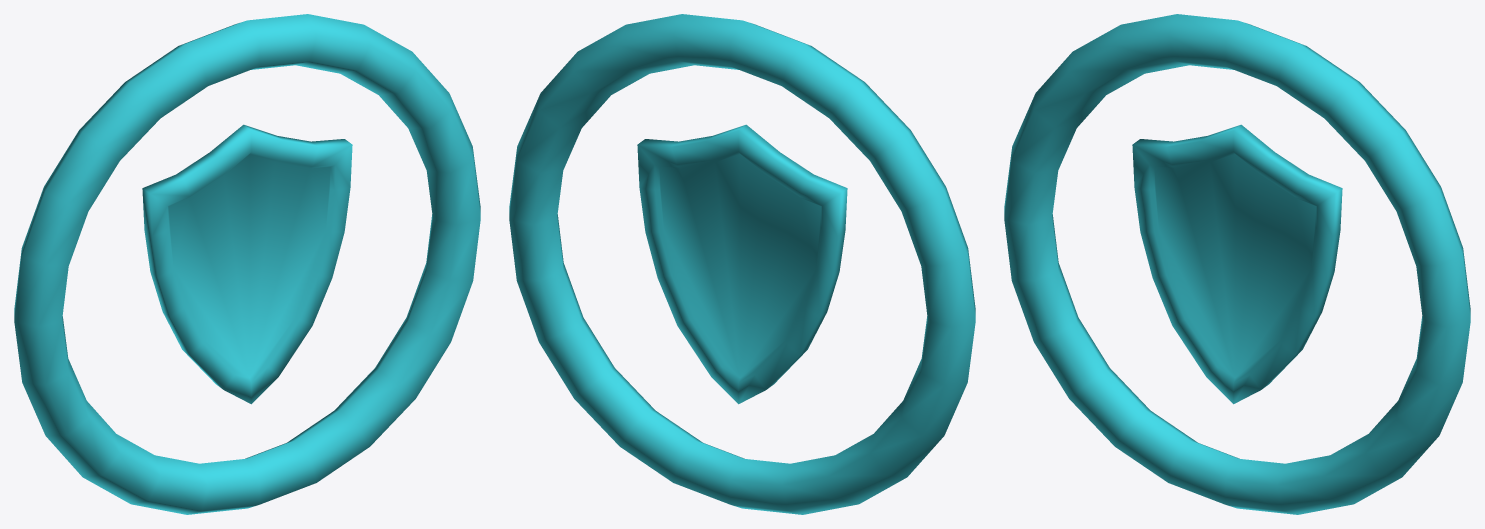
File: shield.FBX
The picture shows the model from 3 angles, left to right: view 1: azimuth 30°, elevation 25°; view 2: azimuth 150°, elevation 25°; view 3: azimuth 330°, elevation 25°; orthographic projection.
Parts seen in each view (by area): view 1: cerc, shield; view 2: cerc, shield; view 3: cerc, shield.
Boxes of the visible parts, x1=… form: cerc: x1=14, y1=14, x2=480, y2=514; shield: x1=142, y1=124, x2=352, y2=404; cerc: x1=509, y1=14, x2=975, y2=514; shield: x1=637, y1=124, x2=847, y2=404; cerc: x1=1004, y1=14, x2=1470, y2=514; shield: x1=1132, y1=124, x2=1342, y2=404.
Size of the model in its own units: 137 by 137 by 12.12.
